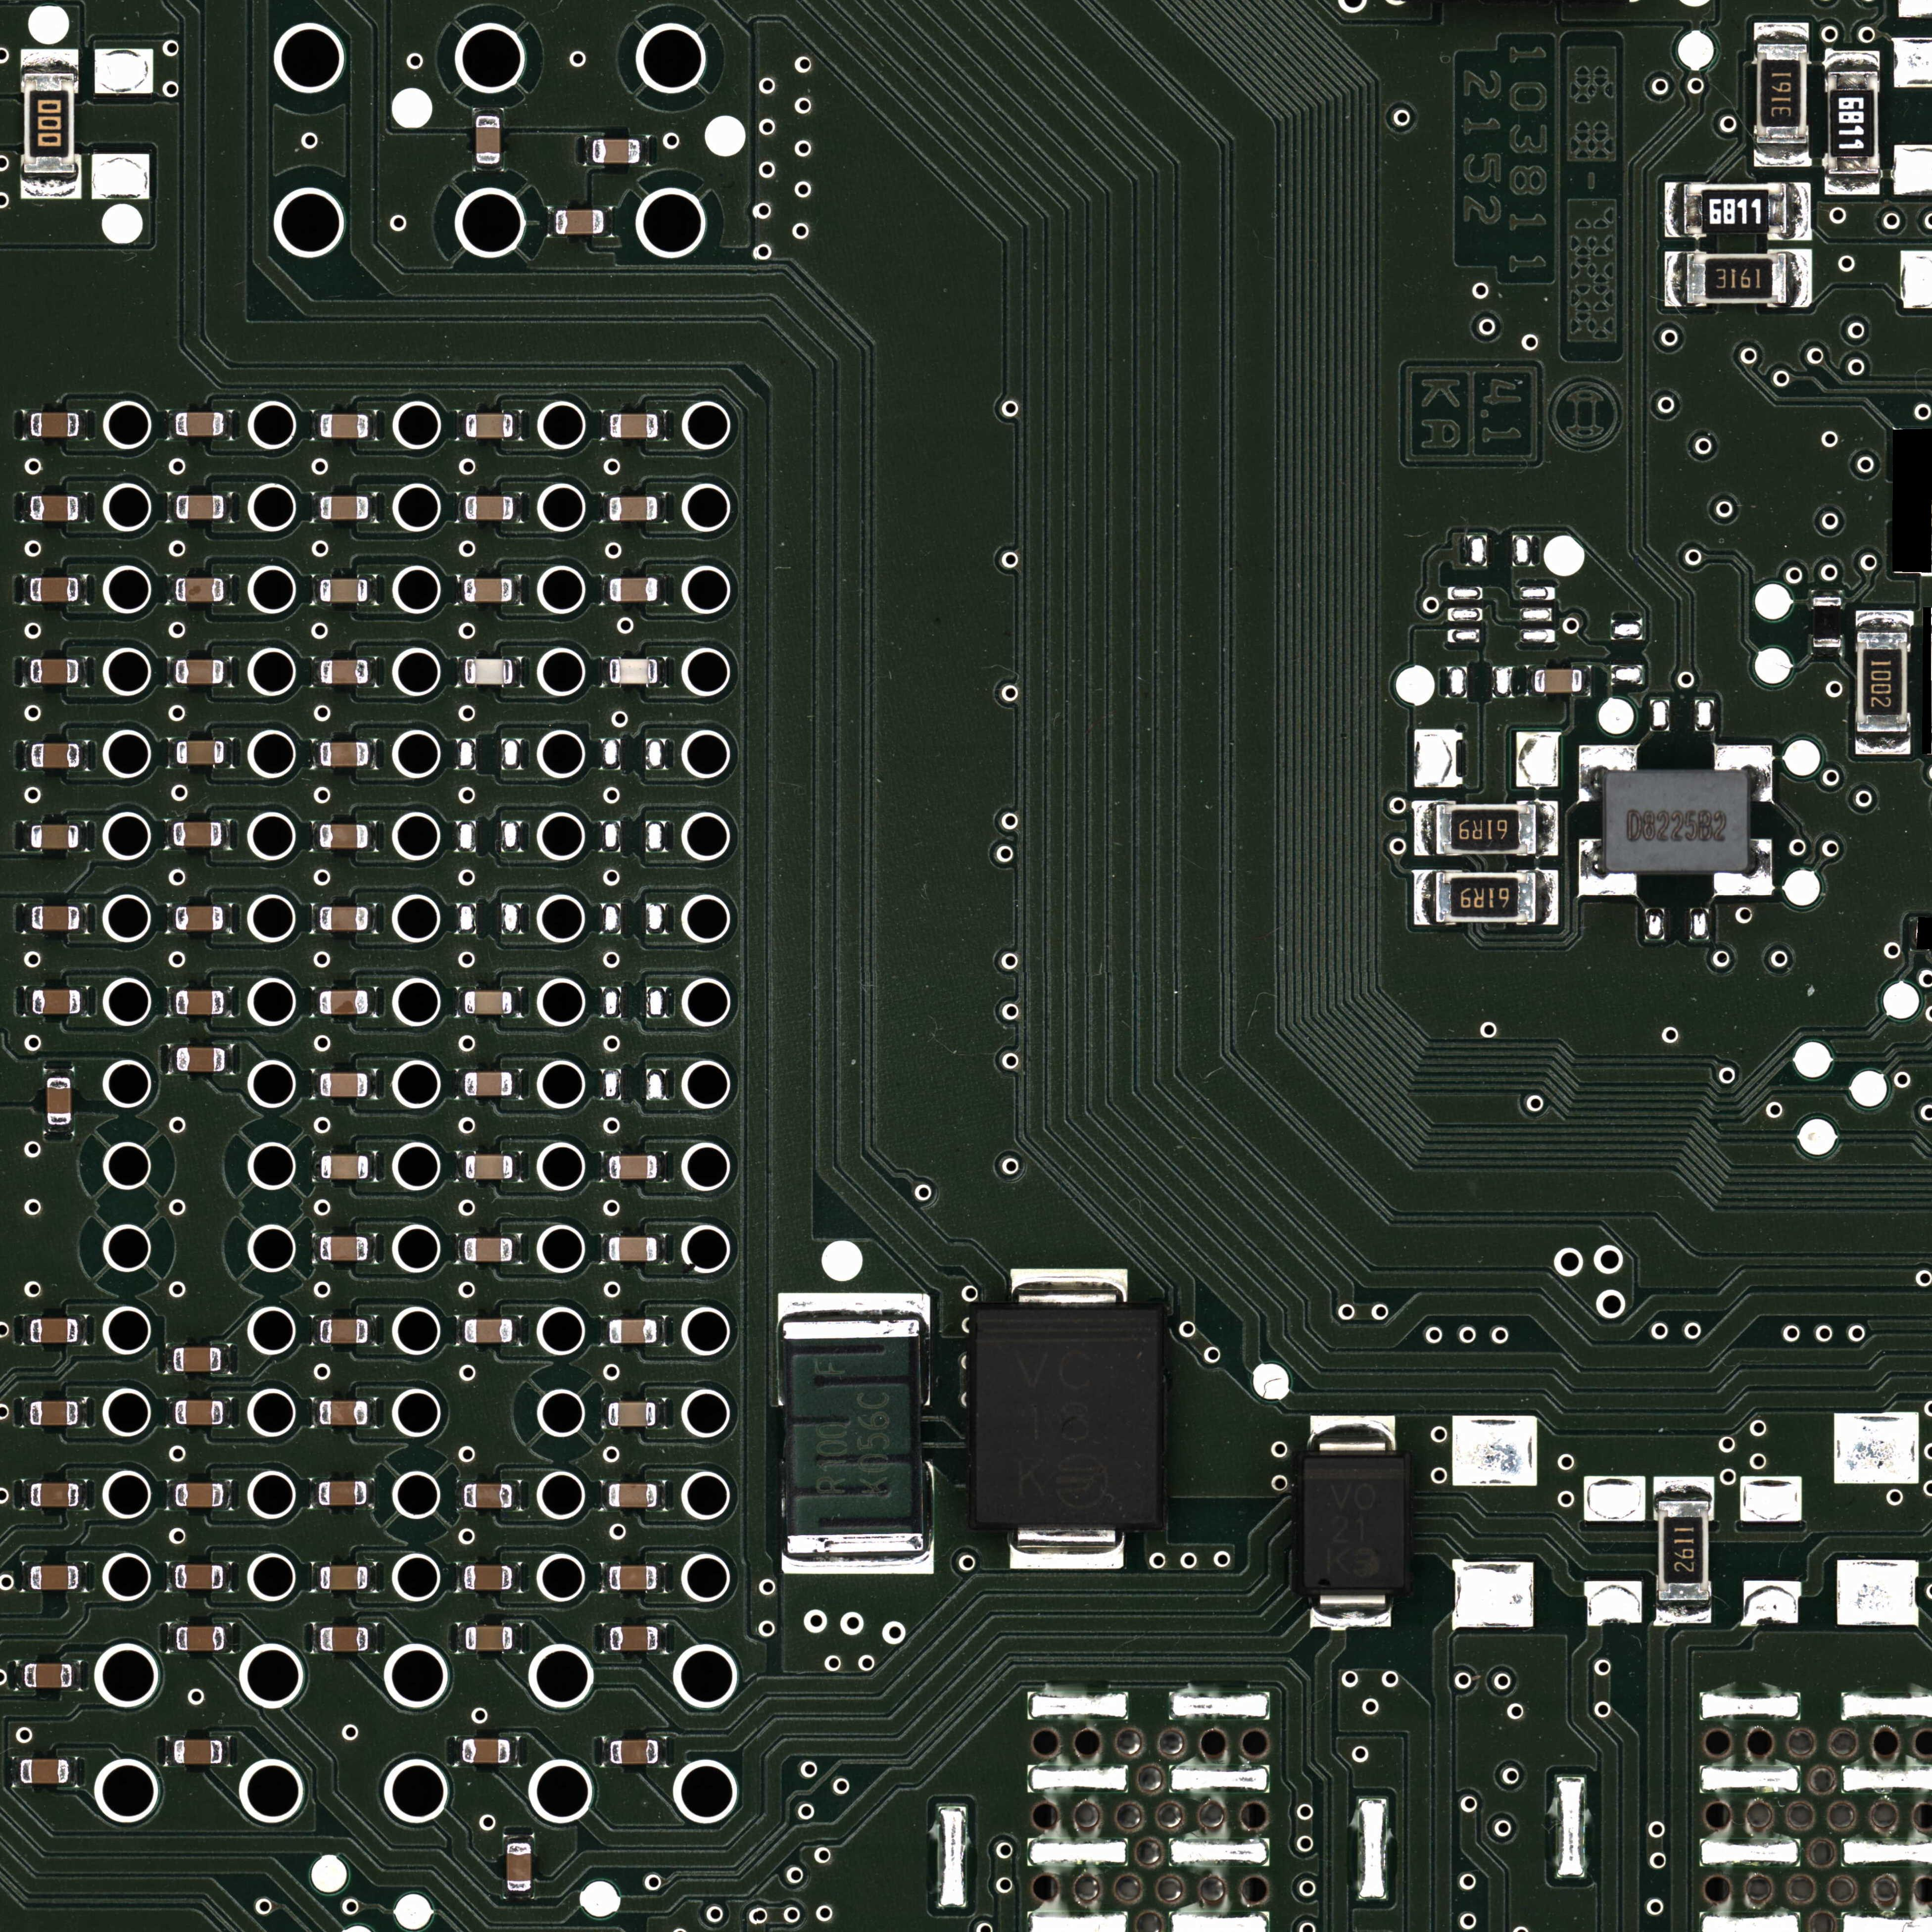Package: (975, 1311, 1159, 1525), (784, 1322, 923, 1551), (1606, 773, 1748, 870), (1303, 1457, 1404, 1589), (1826, 71, 1879, 174), (1656, 1500, 1710, 1600), (1683, 183, 1787, 234), (23, 73, 75, 173), (1756, 44, 1807, 144), (1436, 872, 1537, 922), (1436, 804, 1537, 855), (1856, 633, 1908, 731), (1687, 254, 1787, 303), (1813, 597, 1840, 647), (30, 495, 79, 521), (465, 659, 513, 684), (31, 412, 79, 437), (173, 821, 222, 847), (320, 1627, 368, 1652), (176, 1047, 225, 1072), (319, 824, 368, 849), (610, 659, 658, 684), (175, 1564, 223, 1589), (320, 1319, 368, 1344), (30, 659, 79, 684), (464, 1565, 512, 1590), (31, 743, 80, 768), (320, 414, 369, 438), (30, 1565, 79, 1590), (30, 1401, 78, 1426), (319, 1401, 368, 1425), (464, 1484, 512, 1508), (174, 1739, 222, 1764), (176, 1626, 225, 1651), (30, 1318, 78, 1343), (555, 210, 604, 235), (610, 1626, 658, 1651), (320, 1236, 368, 1261), (32, 990, 80, 1014), (175, 1400, 223, 1425), (320, 742, 368, 767), (30, 578, 78, 602), (24, 1663, 72, 1688), (173, 1347, 221, 1372), (176, 990, 224, 1015), (610, 414, 658, 438), (609, 496, 657, 521), (176, 412, 224, 436), (609, 1237, 657, 1261), (318, 1481, 367, 1505), (30, 1483, 79, 1507), (320, 990, 368, 1014), (464, 578, 512, 602), (609, 1565, 657, 1590), (176, 495, 224, 520), (47, 1077, 71, 1125), (476, 116, 500, 164), (20, 1759, 68, 1784), (610, 1740, 658, 1764), (31, 824, 79, 849), (320, 1073, 368, 1097), (320, 660, 368, 684), (176, 660, 224, 684), (464, 1238, 512, 1262), (507, 1843, 531, 1891), (465, 496, 513, 520), (464, 1319, 512, 1343), (592, 139, 640, 163), (320, 1566, 368, 1590), (320, 907, 368, 930), (320, 496, 369, 520), (321, 1155, 368, 1179), (462, 1739, 510, 1763), (465, 1626, 513, 1650), (465, 1155, 513, 1179), (176, 906, 223, 930), (608, 1402, 656, 1426), (465, 1072, 512, 1096), (609, 1319, 657, 1344), (176, 578, 224, 602), (32, 906, 80, 930), (176, 741, 224, 765), (609, 1156, 657, 1179), (320, 579, 368, 602), (609, 1484, 657, 1507), (610, 578, 658, 602), (466, 414, 513, 438), (1535, 669, 1582, 693), (176, 1483, 223, 1507), (464, 991, 512, 1014)
Solder: (1010, 1525, 1124, 1570), (1010, 1268, 1128, 1309), (777, 1293, 930, 1321), (1310, 1416, 1396, 1456), (1714, 745, 1773, 802), (1713, 839, 1772, 895), (1579, 746, 1638, 803), (782, 1553, 934, 1574), (1579, 839, 1636, 895), (1310, 1589, 1392, 1628), (20, 174, 82, 199), (1787, 249, 1812, 308), (1653, 1477, 1714, 1500), (21, 49, 78, 73), (1787, 183, 1811, 241), (1655, 1602, 1712, 1625), (1754, 145, 1811, 167), (1855, 733, 1911, 755), (1856, 610, 1913, 631), (1537, 869, 1558, 925), (1414, 801, 1435, 856), (1414, 869, 1435, 925), (1665, 252, 1686, 306), (1538, 801, 1558, 856), (1754, 23, 1809, 43), (1825, 175, 1880, 195), (1825, 51, 1880, 71), (1664, 182, 1683, 237), (43, 1067, 74, 1077), (510, 1736, 520, 1767), (78, 1315, 88, 1346), (640, 136, 650, 166), (1582, 666, 1592, 696), (223, 1397, 233, 1427), (656, 1399, 666, 1428), (503, 1834, 534, 1842), (658, 1623, 667, 1654), (369, 1623, 378, 1654), (79, 574, 88, 605), (167, 1044, 176, 1075), (222, 1344, 231, 1374), (604, 206, 613, 237), (513, 575, 522, 605), (80, 903, 89, 934), (513, 657, 522, 687), (368, 1068, 377, 1099), (224, 986, 233, 1017), (72, 1660, 81, 1691), (222, 820, 231, 850), (166, 987, 175, 1017), (657, 1481, 666, 1510), (657, 1563, 666, 1593), (166, 904, 175, 933), (225, 1044, 234, 1075), (224, 1562, 232, 1593), (79, 1561, 87, 1593), (474, 107, 503, 116), (79, 1397, 87, 1428), (513, 1623, 522, 1653), (167, 1622, 176, 1653), (513, 1233, 522, 1264), (369, 903, 377, 934), (457, 410, 465, 441), (80, 410, 88, 440), (225, 1623, 233, 1653), (224, 410, 233, 440), (80, 740, 89, 771), (513, 1562, 521, 1593), (368, 1562, 377, 1593), (79, 657, 88, 687), (79, 492, 87, 523), (600, 1562, 609, 1593), (457, 1623, 465, 1653), (311, 1315, 320, 1346), (167, 492, 176, 523), (601, 410, 610, 440), (657, 1316, 666, 1346), (600, 1152, 609, 1182), (369, 987, 377, 1017), (513, 1151, 522, 1181), (310, 1478, 318, 1508), (369, 1233, 377, 1263), (513, 987, 521, 1017), (658, 492, 666, 523), (513, 1069, 521, 1099), (368, 1398, 377, 1428), (224, 1480, 232, 1510), (224, 903, 232, 933), (658, 1151, 666, 1181), (311, 1562, 320, 1592), (22, 821, 31, 851), (600, 1316, 609, 1346), (311, 904, 319, 933), (166, 1562, 175, 1592), (167, 657, 175, 687), (167, 1480, 175, 1510), (601, 657, 609, 687), (312, 657, 320, 687), (456, 1152, 465, 1181), (168, 738, 176, 768), (167, 575, 175, 605), (658, 657, 667, 687), (225, 738, 233, 768), (368, 575, 377, 605), (165, 1343, 173, 1374), (369, 410, 377, 441), (224, 492, 232, 523), (369, 657, 377, 686), (22, 410, 30, 440), (22, 492, 30, 523), (602, 1623, 610, 1654), (23, 903, 31, 934), (312, 1151, 320, 1181), (503, 1891, 533, 1899), (514, 410, 522, 440), (44, 1125, 75, 1133), (369, 492, 377, 523), (69, 1756, 77, 1787), (81, 986, 89, 1016), (369, 1315, 377, 1346), (514, 492, 522, 523), (513, 1480, 521, 1510), (167, 1397, 175, 1428), (369, 1151, 377, 1181), (224, 575, 232, 605), (659, 1737, 667, 1767), (312, 1233, 320, 1263), (165, 1736, 173, 1766), (584, 136, 592, 166), (312, 410, 320, 440), (1526, 666, 1534, 696), (24, 986, 32, 1016), (312, 492, 320, 523), (311, 1069, 319, 1099), (369, 739, 377, 769), (165, 820, 173, 850), (369, 821, 377, 851), (513, 1315, 521, 1346), (658, 1234, 666, 1264), (224, 657, 232, 687), (456, 1562, 464, 1593), (457, 493, 465, 523), (456, 657, 464, 687), (79, 821, 87, 851), (222, 1736, 230, 1766), (602, 1737, 610, 1767), (1811, 647, 1841, 655), (474, 164, 503, 172), (167, 410, 175, 440), (600, 1481, 608, 1510), (312, 739, 320, 769), (600, 1234, 608, 1263), (454, 1737, 462, 1766), (311, 821, 319, 851), (311, 987, 319, 1017), (601, 493, 609, 523), (16, 1660, 24, 1690), (547, 207, 555, 237), (456, 1069, 464, 1099), (456, 1234, 464, 1264), (312, 1623, 320, 1654), (456, 988, 464, 1017), (23, 1479, 30, 1510), (22, 1397, 30, 1428), (311, 1398, 319, 1428), (659, 410, 666, 440), (12, 1756, 20, 1787), (79, 1479, 87, 1510), (22, 575, 30, 605), (22, 657, 30, 687), (22, 1315, 30, 1345), (23, 1562, 30, 1592), (1812, 589, 1841, 597), (367, 1478, 374, 1508), (658, 575, 666, 605), (456, 1316, 464, 1346), (312, 576, 319, 605), (601, 576, 609, 605), (24, 741, 31, 771), (456, 576, 463, 605), (456, 1481, 463, 1509), (601, 1399, 608, 1428)
